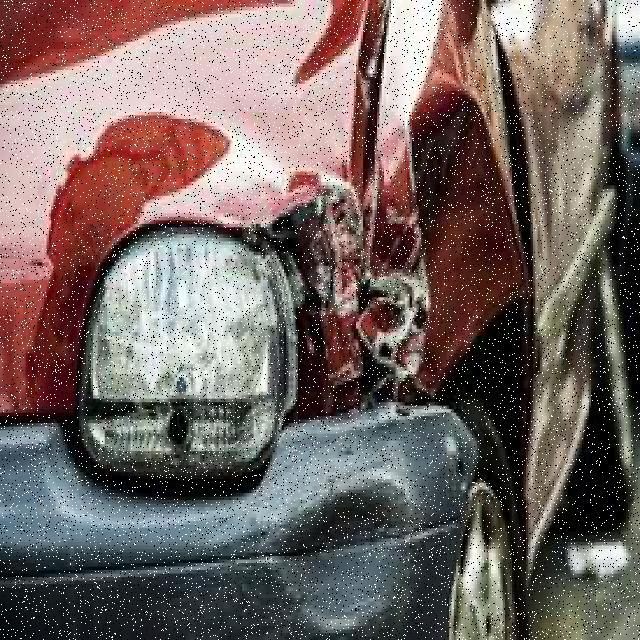fender-dent: (338, 0, 529, 524)
front-bumper-dent: (0, 398, 501, 637)
